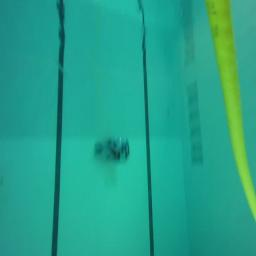Full: (94, 138, 130, 162)
